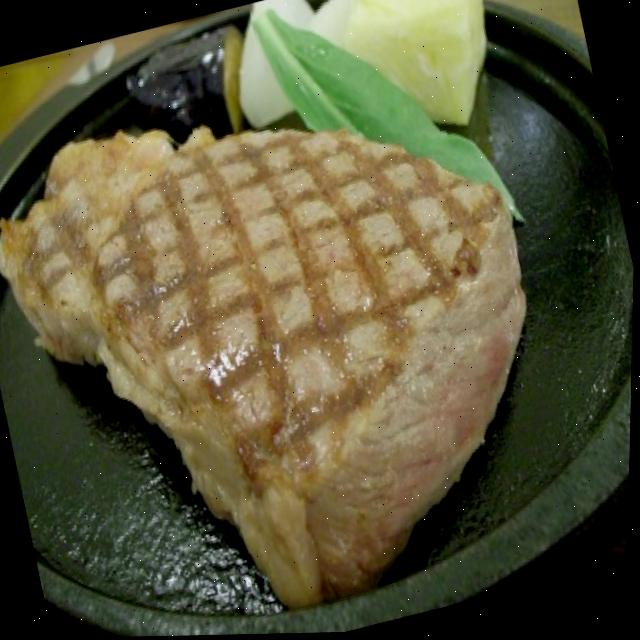牛肉菜式: (0, 28, 600, 640)
